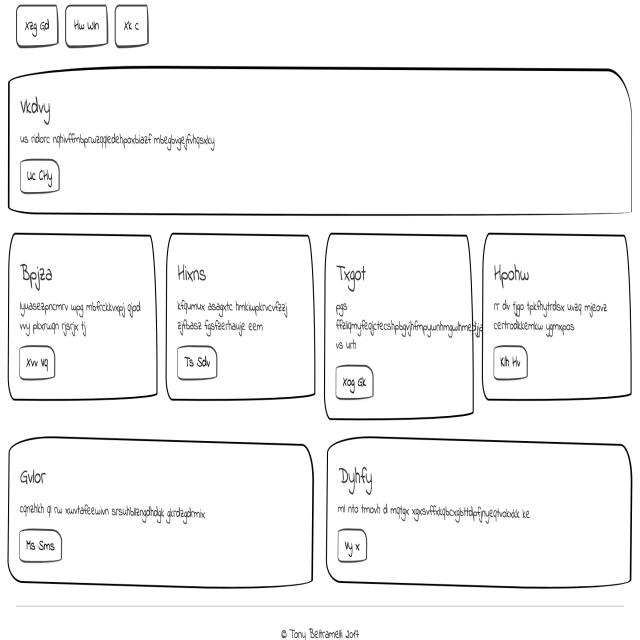Button: (175, 342, 220, 380), (18, 526, 63, 564), (334, 363, 377, 402), (491, 342, 529, 384), (17, 155, 59, 193), (19, 342, 55, 383), (340, 529, 368, 560)
Card: (8, 60, 632, 213), (6, 432, 314, 590), (325, 434, 631, 590), (324, 232, 474, 422), (164, 228, 316, 400), (481, 231, 632, 399), (5, 228, 158, 389)
Footer: (0, 601, 640, 640)
Heading 6: (492, 262, 533, 290), (18, 258, 53, 290), (338, 463, 373, 495), (338, 258, 369, 294), (19, 96, 52, 128), (175, 260, 209, 286), (17, 464, 48, 489)
Navigation Bar: (14, 2, 150, 50)
Paragraph: (334, 300, 481, 352), (16, 128, 216, 156), (489, 295, 607, 339), (336, 501, 530, 527), (17, 298, 141, 337), (16, 502, 207, 527), (176, 299, 289, 338)
